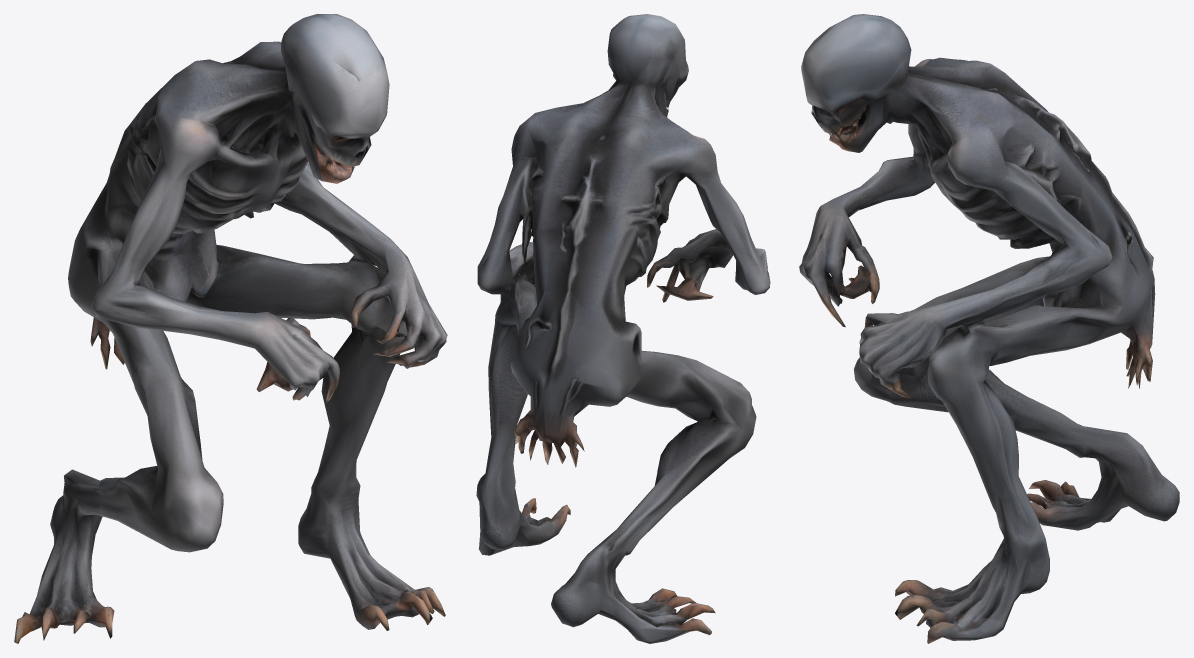
The model's file is ghoul.glb.
3 renders of one model, left to right at view 1: azimuth 30°, elevation 25°; view 2: azimuth 150°, elevation 25°; view 3: azimuth 270°, elevation 25°, orthographic. The views are drawn at different scales.
Bounding box in the file's own units: 1.12 × 2 × 1.22.
1 material, 1 textured.
